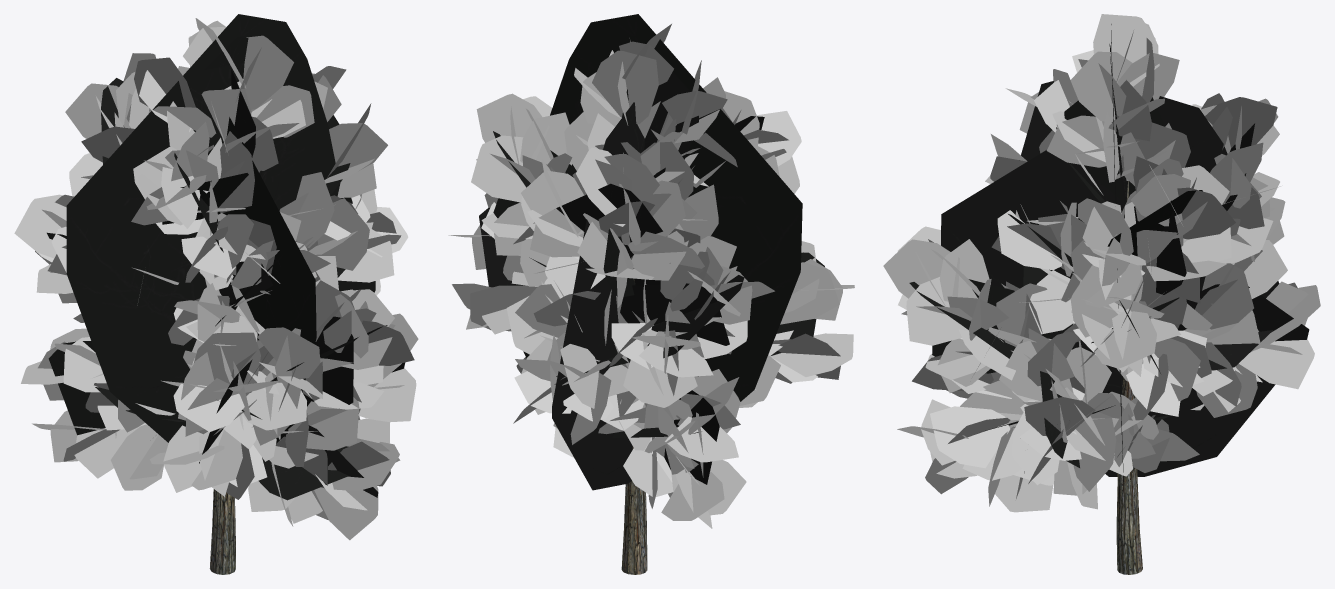
The model's file is tree_01.fbx.
3 views of the same model, side by side, from view 1: azimuth 30°, elevation 25°; view 2: azimuth 150°, elevation 25°; view 3: azimuth 270°, elevation 25° (orthographic). The views are drawn at different scales.
Parts seen in each view (by area): view 1: Polygon_2; view 2: Polygon_2; view 3: Polygon_2.
Boxes of the visible parts, x1,y1,x2,y2 form: Polygon_2: [14, 14, 418, 574]; Polygon_2: [448, 14, 854, 574]; Polygon_2: [883, 14, 1320, 574].
Bounding box in the file's own units: 760 × 1183 × 853.
